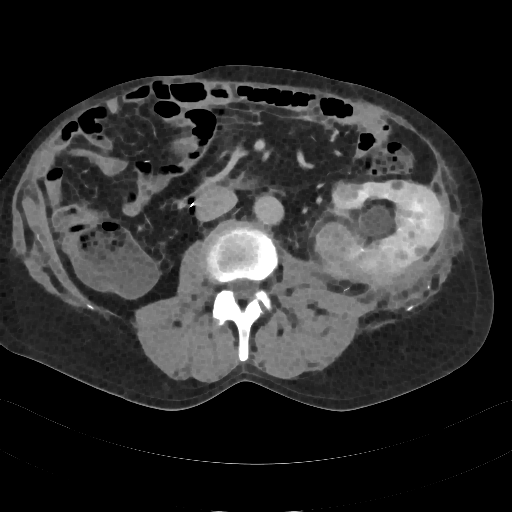Lesion: (308, 218, 365, 269)
